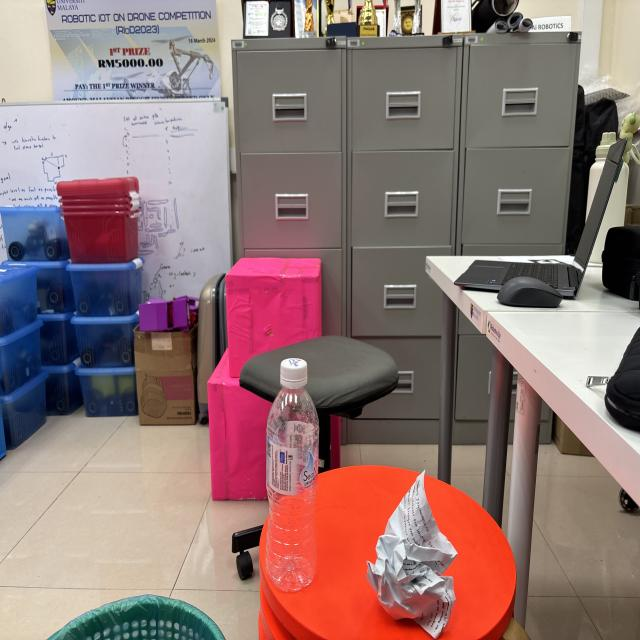crumpled_paper: (360, 460, 468, 640)
plastic_bottle: (261, 346, 330, 600)
